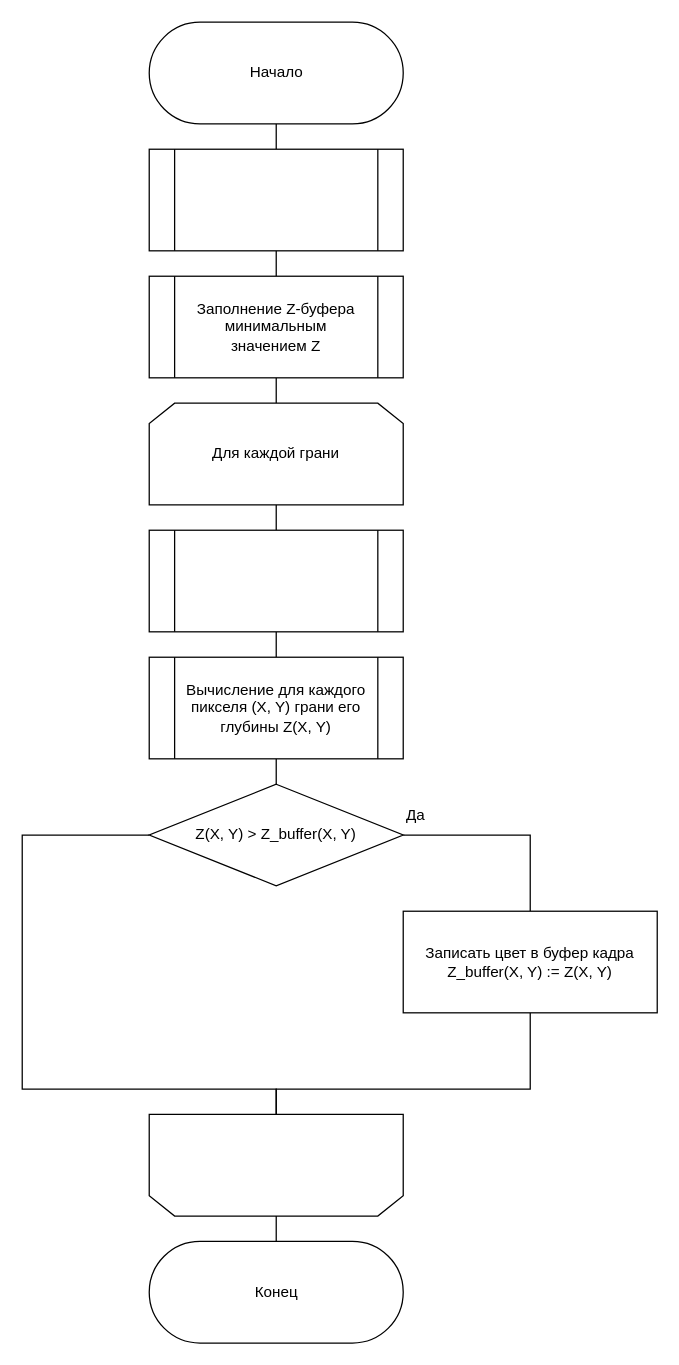
Image size: 679x1365. Some labels were removed from this diagram. Each missing label, with the centre of its shape:
"Заполнение буфера кадра фоновым значением цвета" goes at [275,199].
"Конец цикла для каждой грани" goes at [275,1164].
"Преобразование грани в растровую форму" goes at [275,580].
